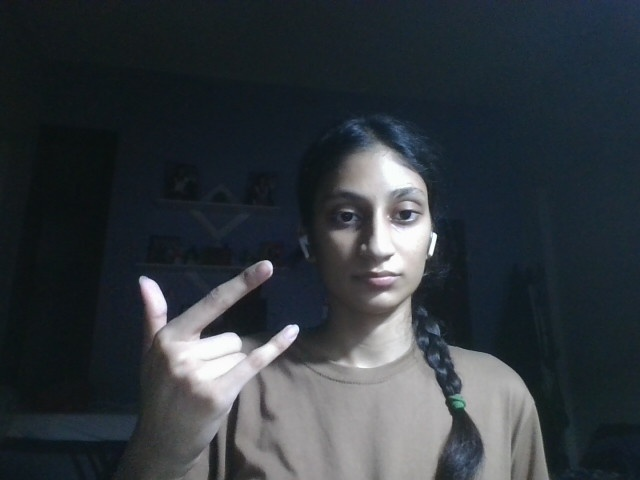i love you: (135, 258, 302, 463)
